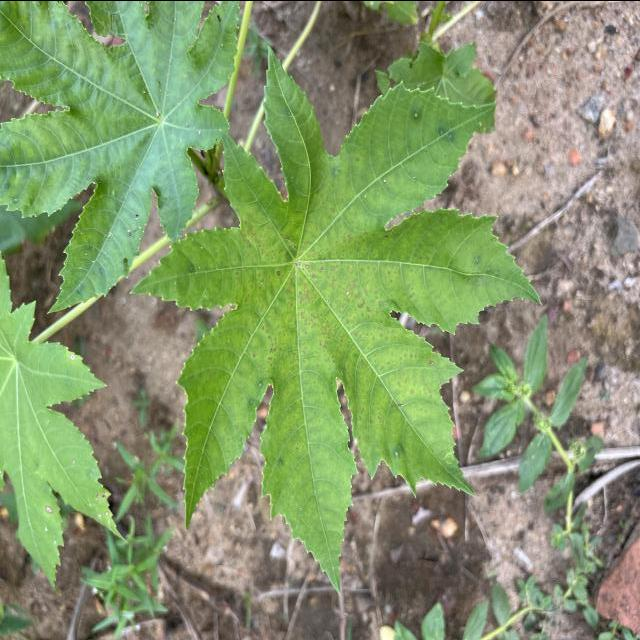Ricinus communis linn: (123, 40, 546, 600)
